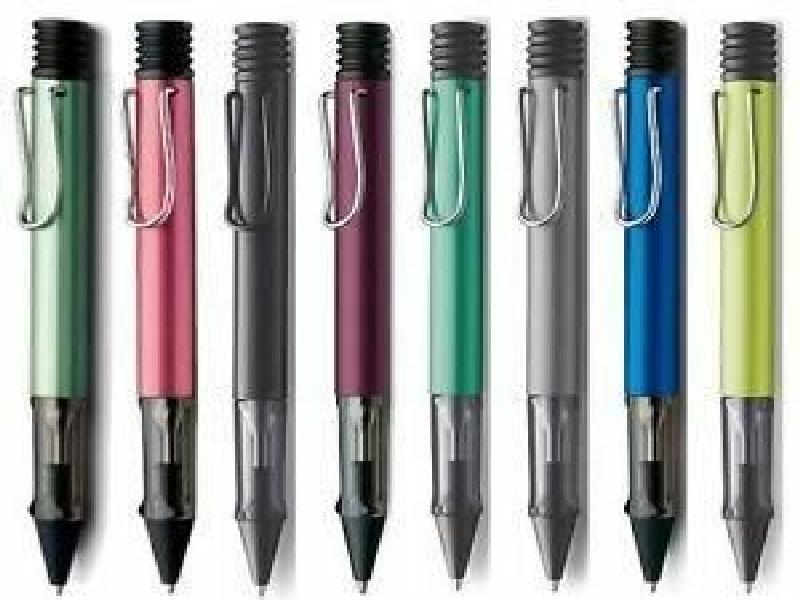pen: (698, 12, 800, 600), (104, 12, 206, 599), (208, 12, 310, 599), (310, 11, 412, 598), (412, 10, 514, 597), (514, 9, 616, 596), (609, 11, 711, 598), (8, 13, 101, 600)
